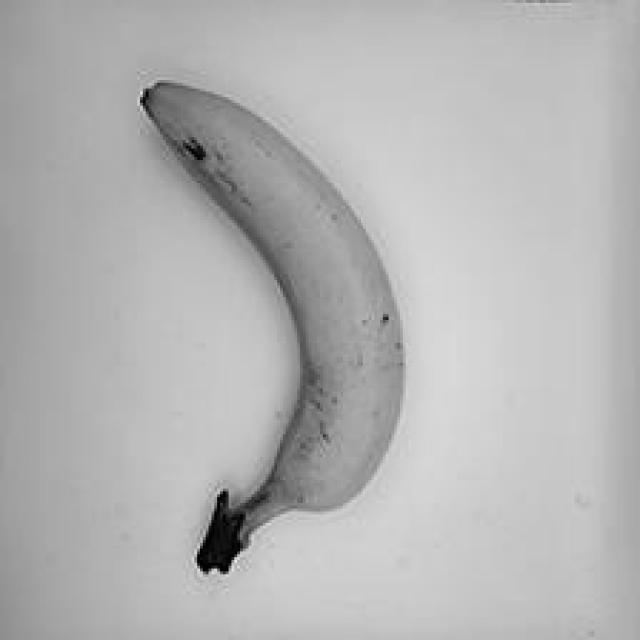Ripe: (96, 49, 430, 606)
